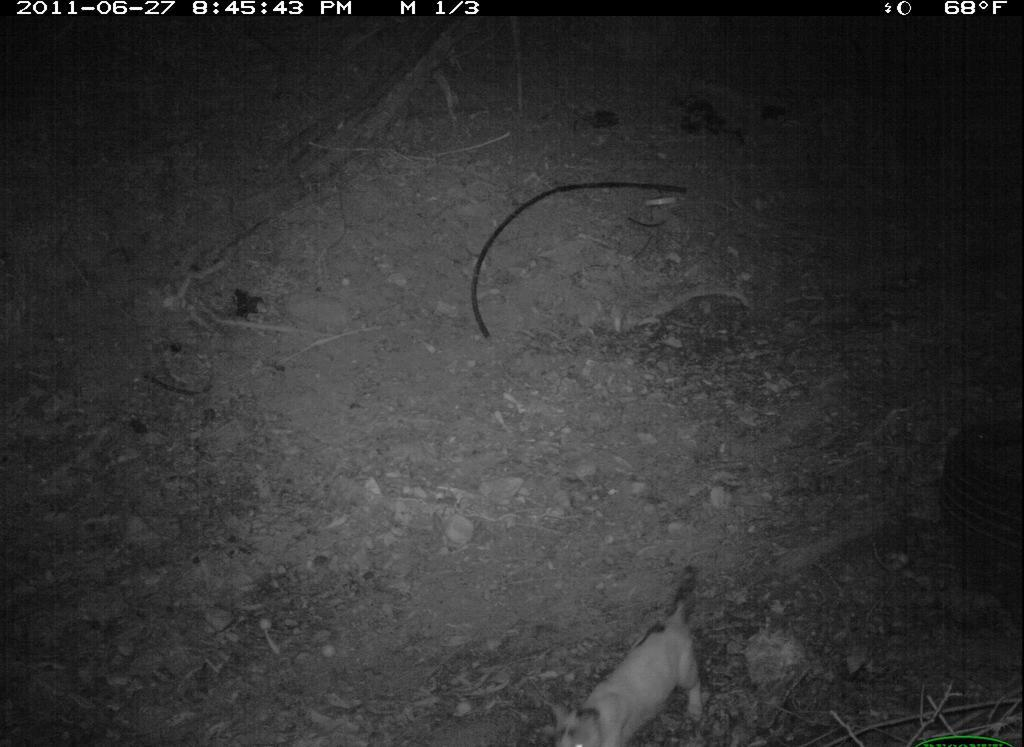cat: (548, 568, 717, 747)
